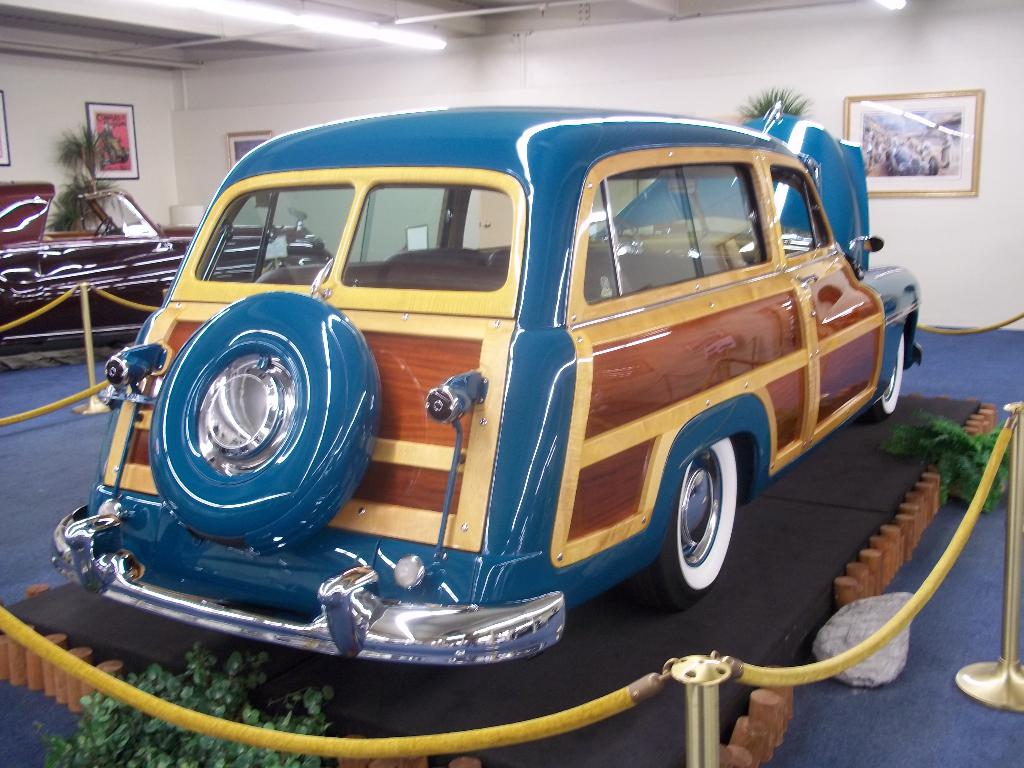Car: (39, 106, 946, 704), (0, 184, 321, 350)
